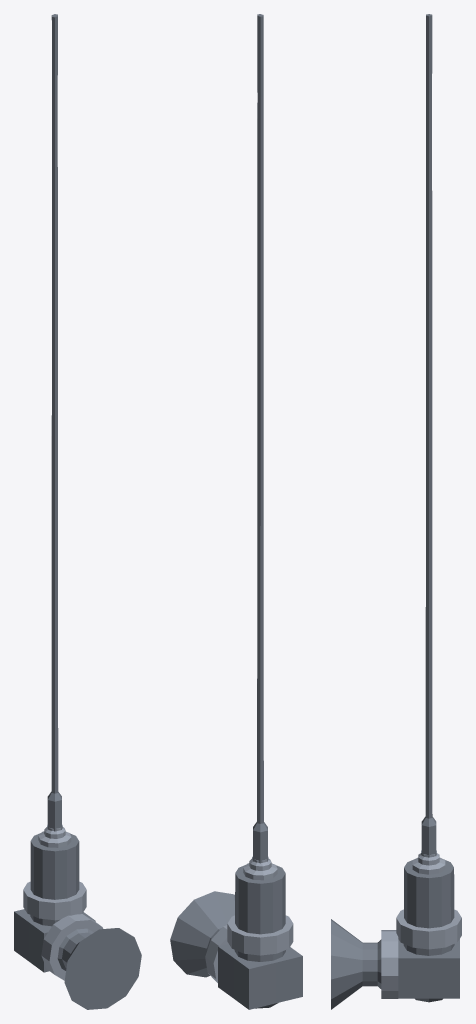
File: other_001_type87-arv.fbx
3 renders of one model, left to right at view 1: azimuth 30°, elevation 25°; view 2: azimuth 210°, elevation 25°; view 3: azimuth 270°, elevation 25°, orthographic. The views are drawn at different scales.
Parts seen in each view (by area): view 1: other.001.type87-arv; view 2: other.001.type87-arv; view 3: other.001.type87-arv.
Boxes of the visible parts, left/top/right/bottom form: other.001.type87-arv: left=14, top=14, right=141, bottom=1009; other.001.type87-arv: left=170, top=14, right=302, bottom=1009; other.001.type87-arv: left=331, top=14, right=461, bottom=1009.
Size of the model in its own units: 0.2899 by 3.43 by 0.4106.
